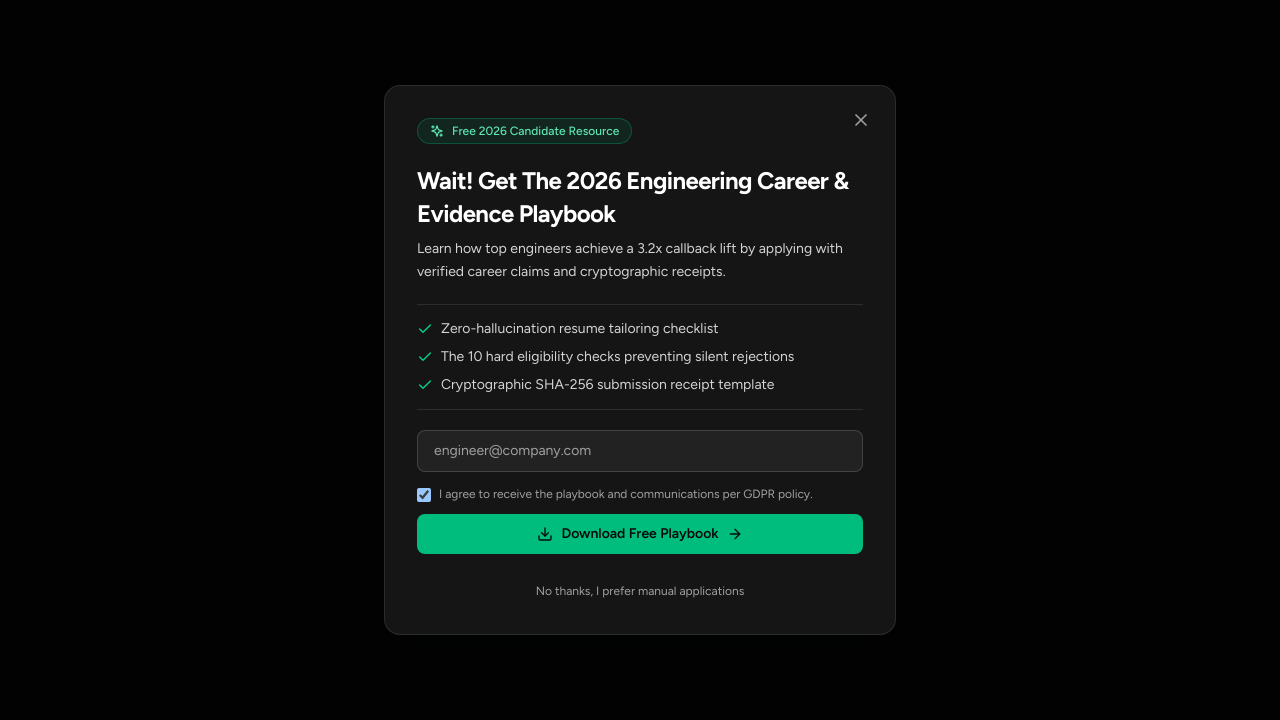
Scenario: ExitIntentModal Component (T-72, FR-CRO-04) › validates email input and transitions to success view upon submission
Click the button "Download Free Playbook".
click(640, 534)  # box left=417, top=514, right=863, bottom=554
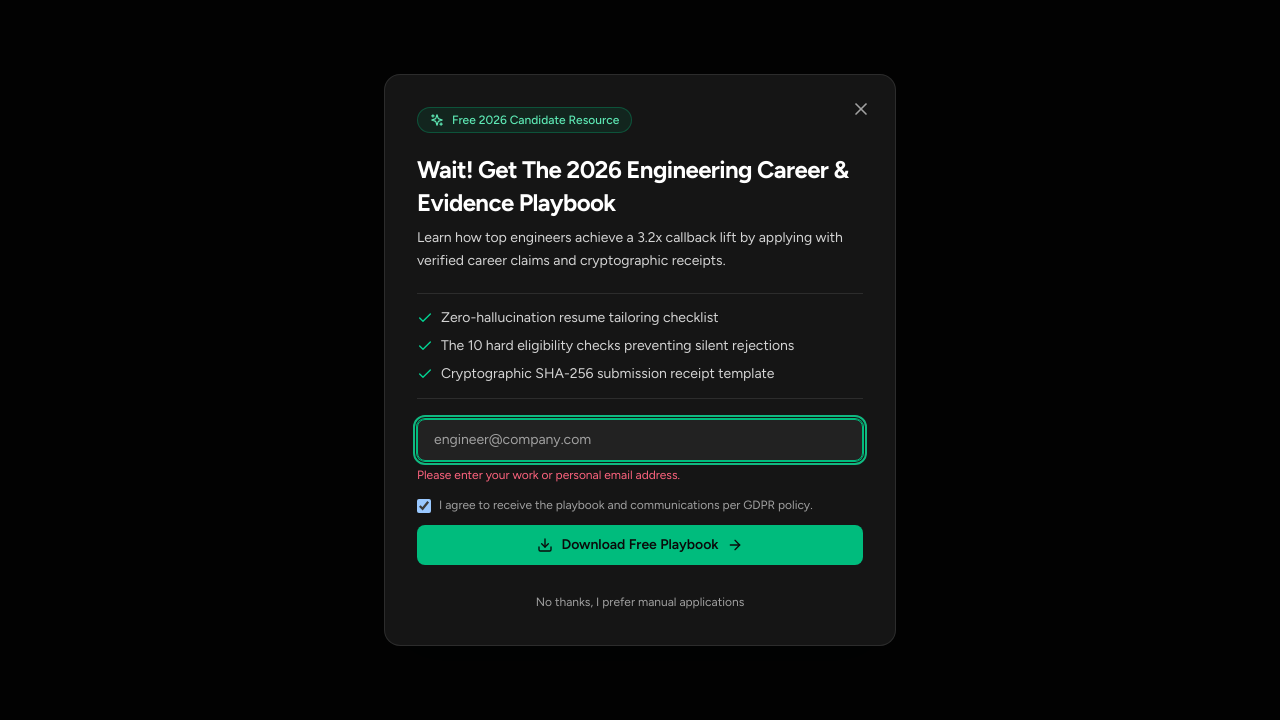
Now the message shows "Please enter your work or personal email address", box left=417, top=468, right=680, bottom=482
Type "candidate@verified.dev" into the field with placeholder "engineer@company.com".
click(640, 440); type("candidate@verified.dev")  # box left=417, top=419, right=863, bottom=461
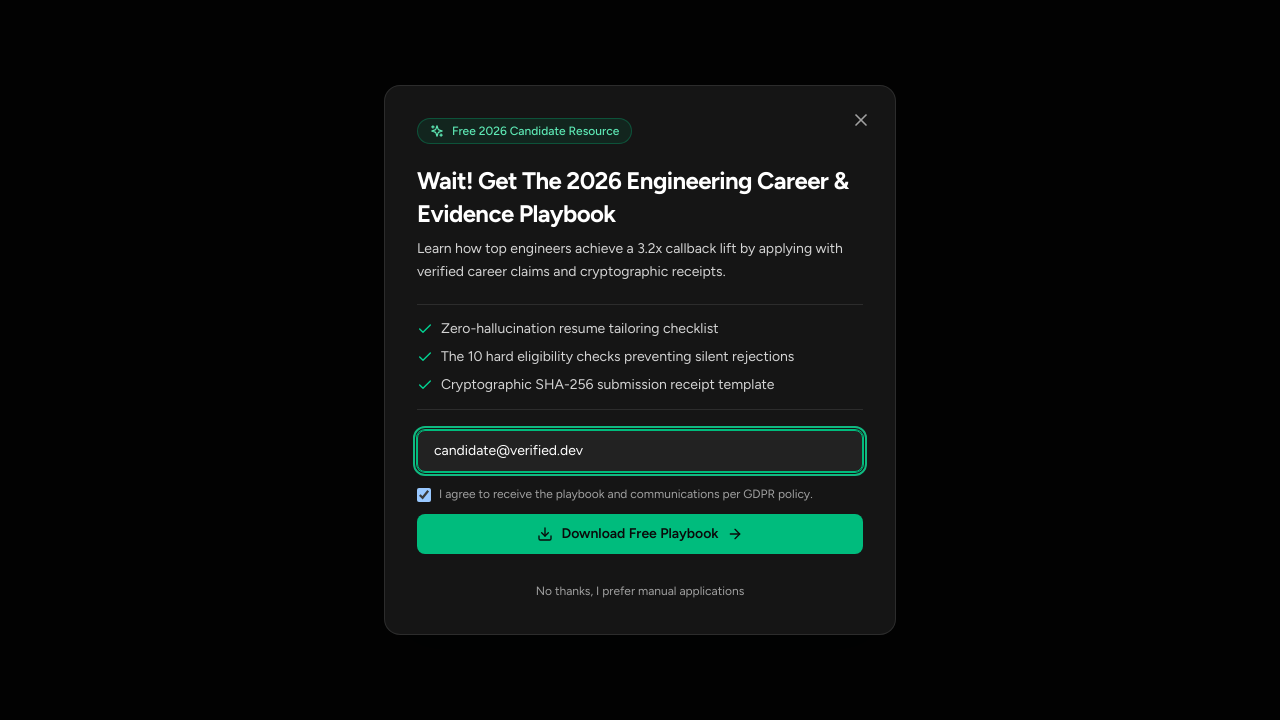
Click the button "Download Free Playbook".
click(640, 534)  # box left=417, top=514, right=863, bottom=554
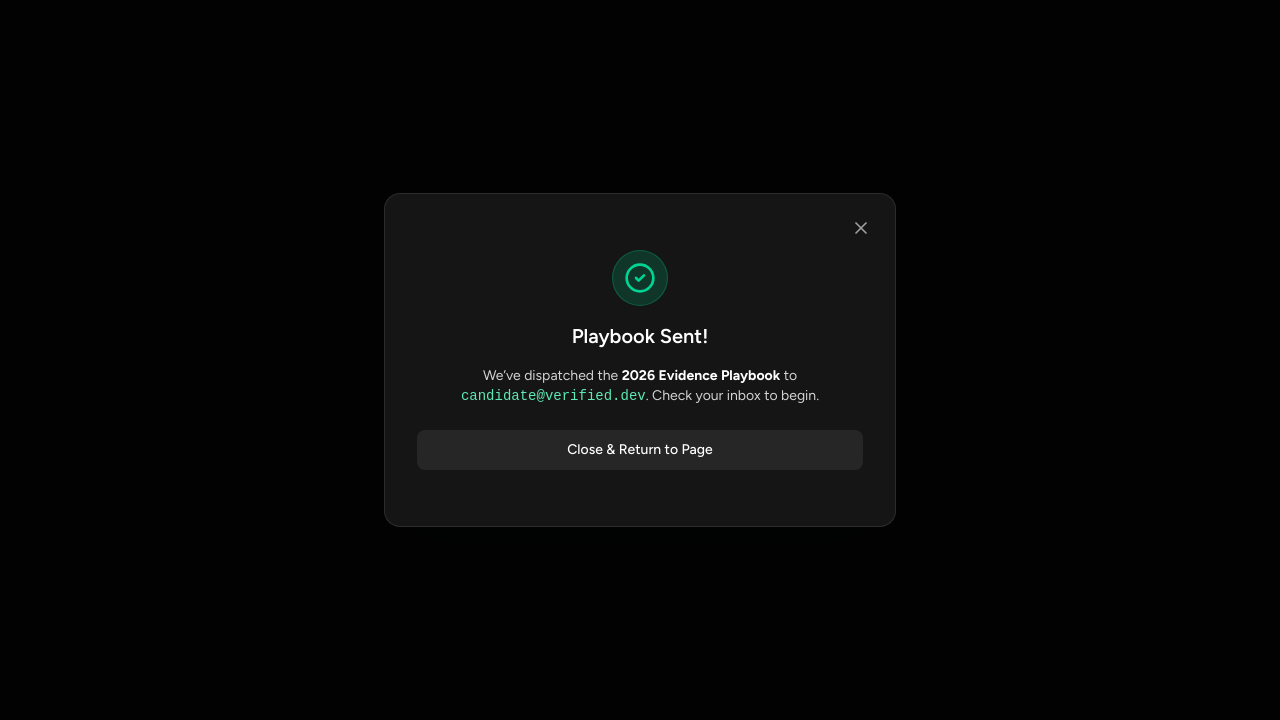
Now the heading "Playbook Sent!" is shown, box left=572, top=324, right=708, bottom=348
